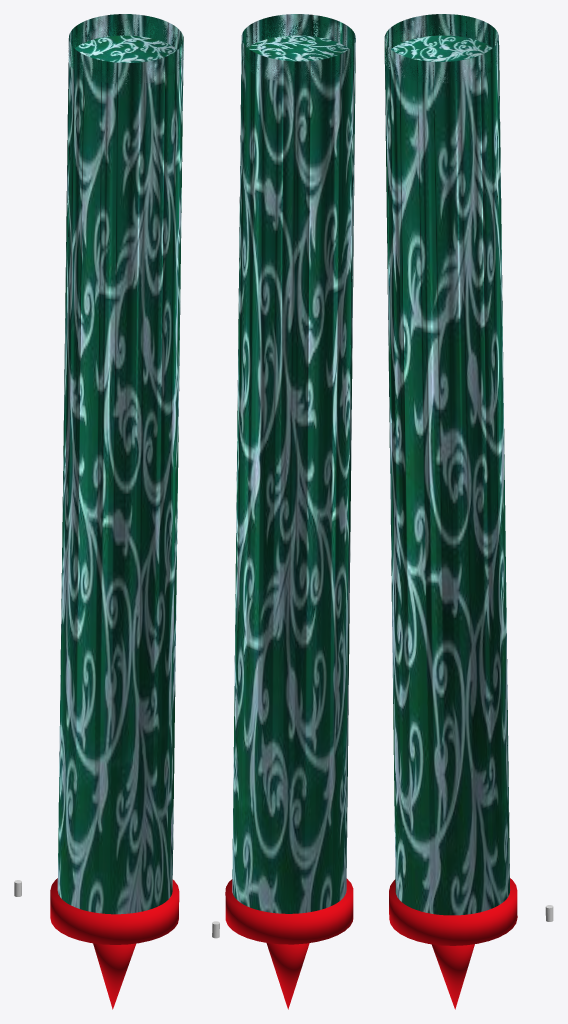
Rendered from sparkler1.glb.
3 renders of one model, left to right at view 1: azimuth 90°, elevation 25°; view 2: azimuth 150°, elevation 25°; view 3: azimuth 270°, elevation 25°, orthographic.
Visible parts, largest first — view 1: Candle_Body, Candle_Collar, Candle_Tip; view 2: Candle_Body, Candle_Collar, Candle_Tip; view 3: Candle_Body, Candle_Collar, Candle_Tip.
Part boxes in pixels (x1=…): Candle_Body: x1=57, y1=14, x2=183, y2=914; Candle_Collar: x1=50, y1=878, x2=179, y2=944; Candle_Tip: x1=93, y1=943, x2=135, y2=1009; Candle_Body: x1=232, y1=14, x2=355, y2=913; Candle_Collar: x1=225, y1=878, x2=353, y2=944; Candle_Tip: x1=266, y1=943, x2=309, y2=1009; Candle_Body: x1=384, y1=14, x2=510, y2=915; Candle_Collar: x1=389, y1=878, x2=517, y2=945; Candle_Tip: x1=431, y1=944, x2=474, y2=1009.
Size of the model in its own units: 0.1068 by 0.8899 by 0.1404.
3 materials, 1 textured.
